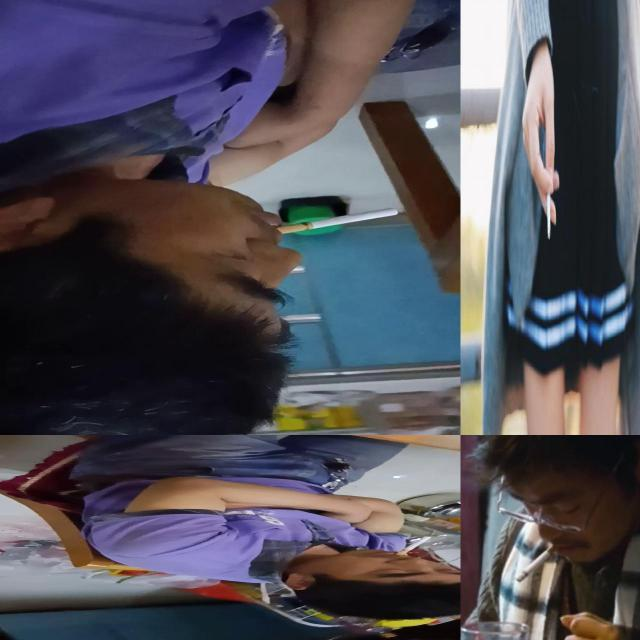smoke: (276, 208, 398, 234), (506, 538, 568, 586), (396, 536, 432, 556), (546, 187, 552, 241)
